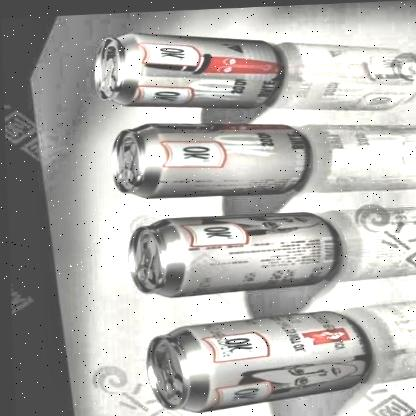Can: (139, 308, 370, 416), (100, 112, 318, 204), (122, 207, 340, 298), (94, 23, 280, 115)
